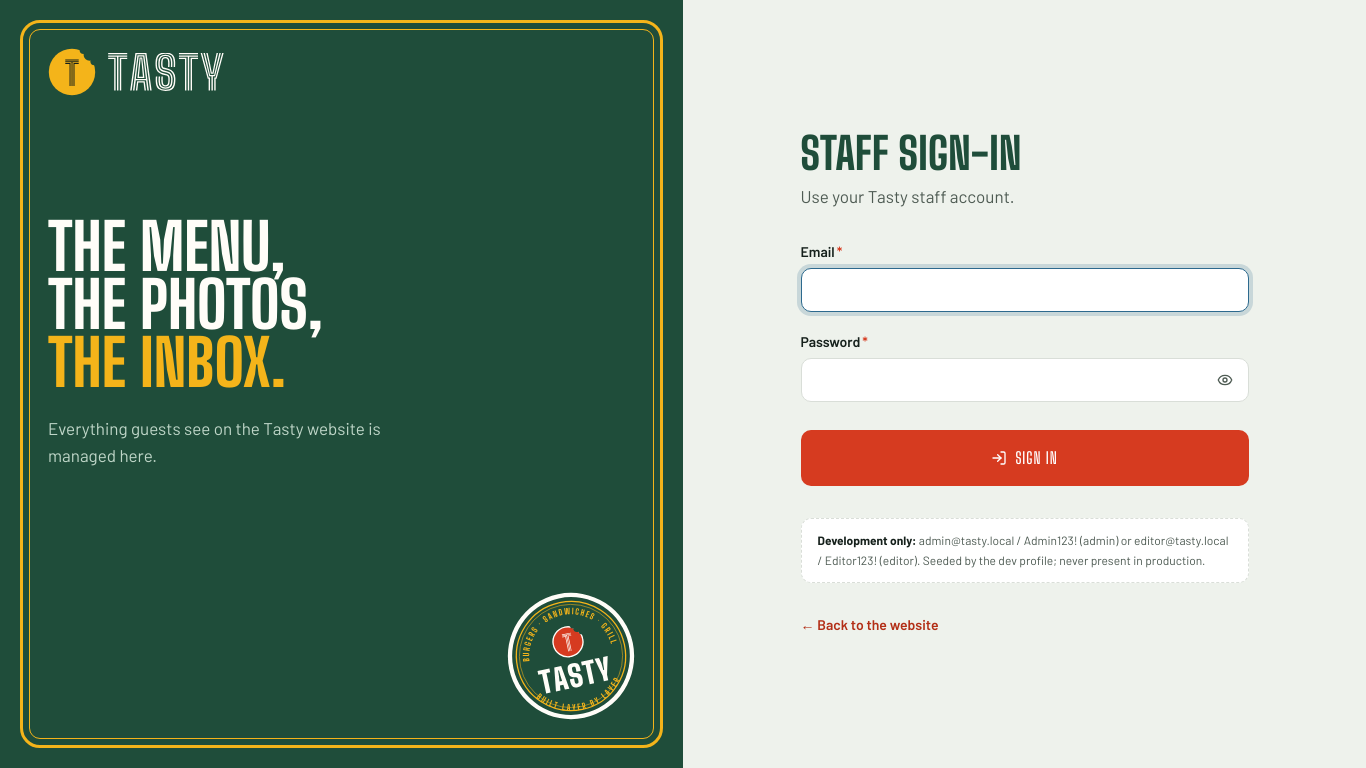
Admin login › signs in, stores the session and opens the dashboard
Type "admin@tasty.local" into the field labelled "Email*" at (1024, 290), box top-left (800, 268), bottom-right (1248, 312)
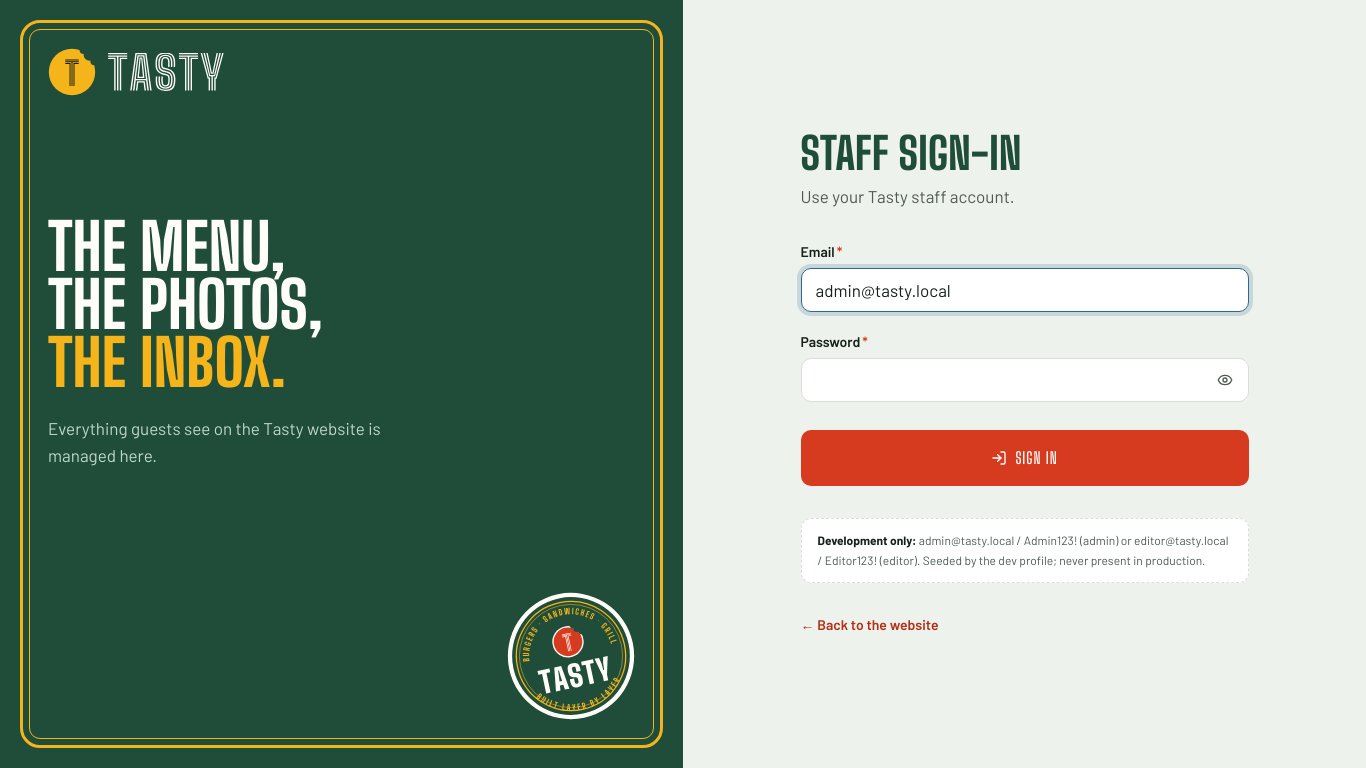
Type "Admin123!" into the password field labelled "Password*" at (1024, 380), box top-left (800, 358), bottom-right (1248, 402)
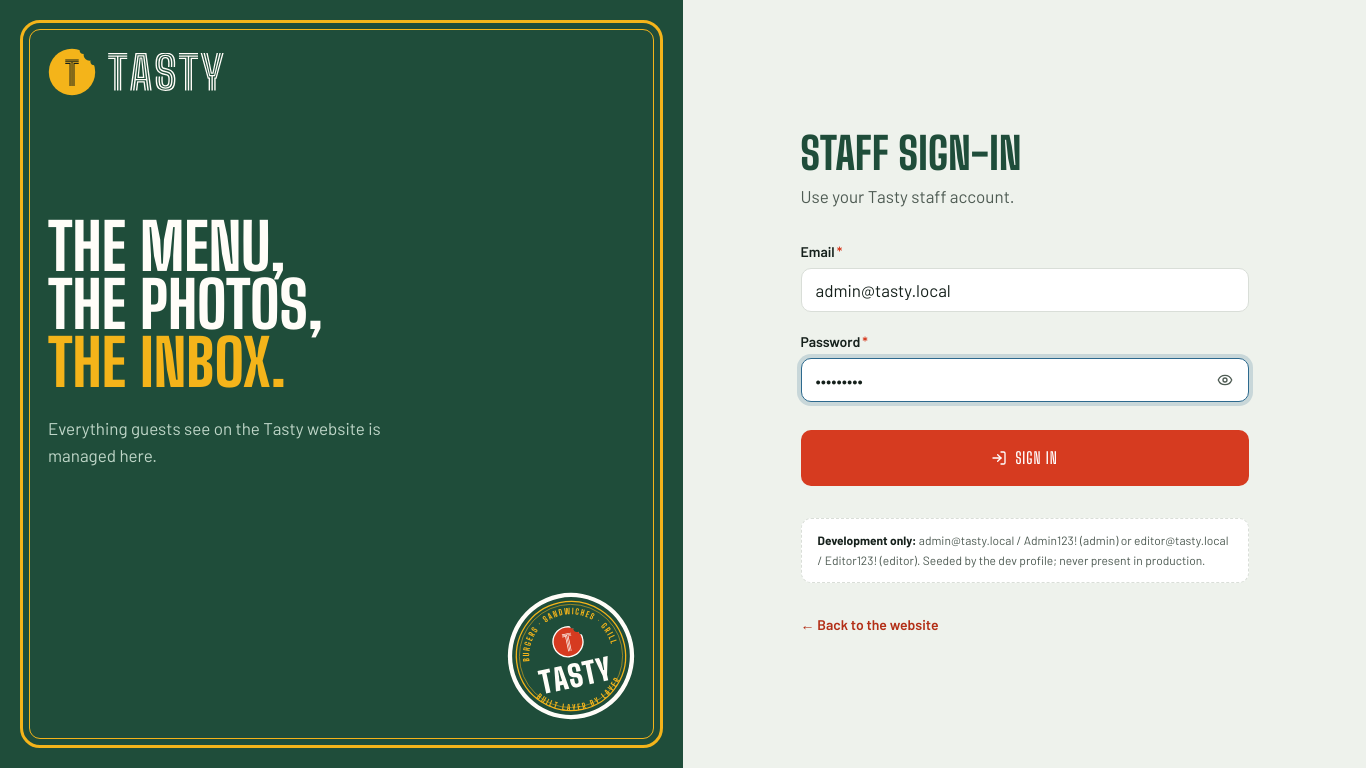
Click the button "Sign in" at (1024, 458), box top-left (800, 430), bottom-right (1248, 486)
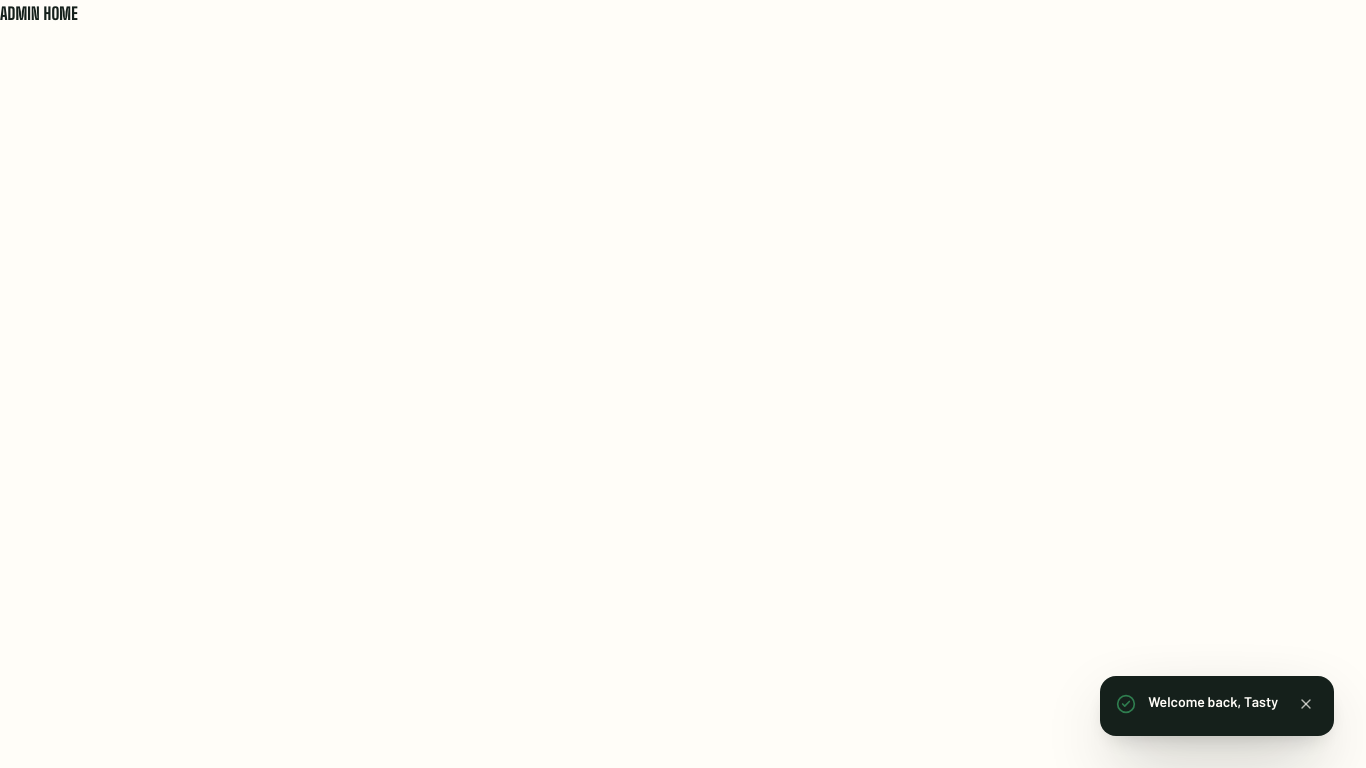
Result: the heading "Admin home" is shown at top-left (0, 3), bottom-right (78, 24)
